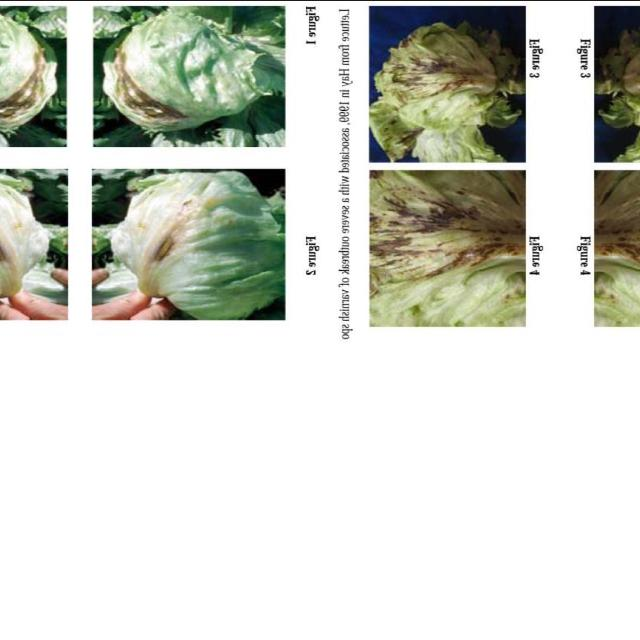healthy: (114, 168, 284, 320), (376, 172, 526, 330), (372, 10, 512, 164), (104, 9, 262, 135), (593, 172, 640, 329), (0, 9, 56, 135), (0, 168, 45, 319), (608, 10, 640, 163)
